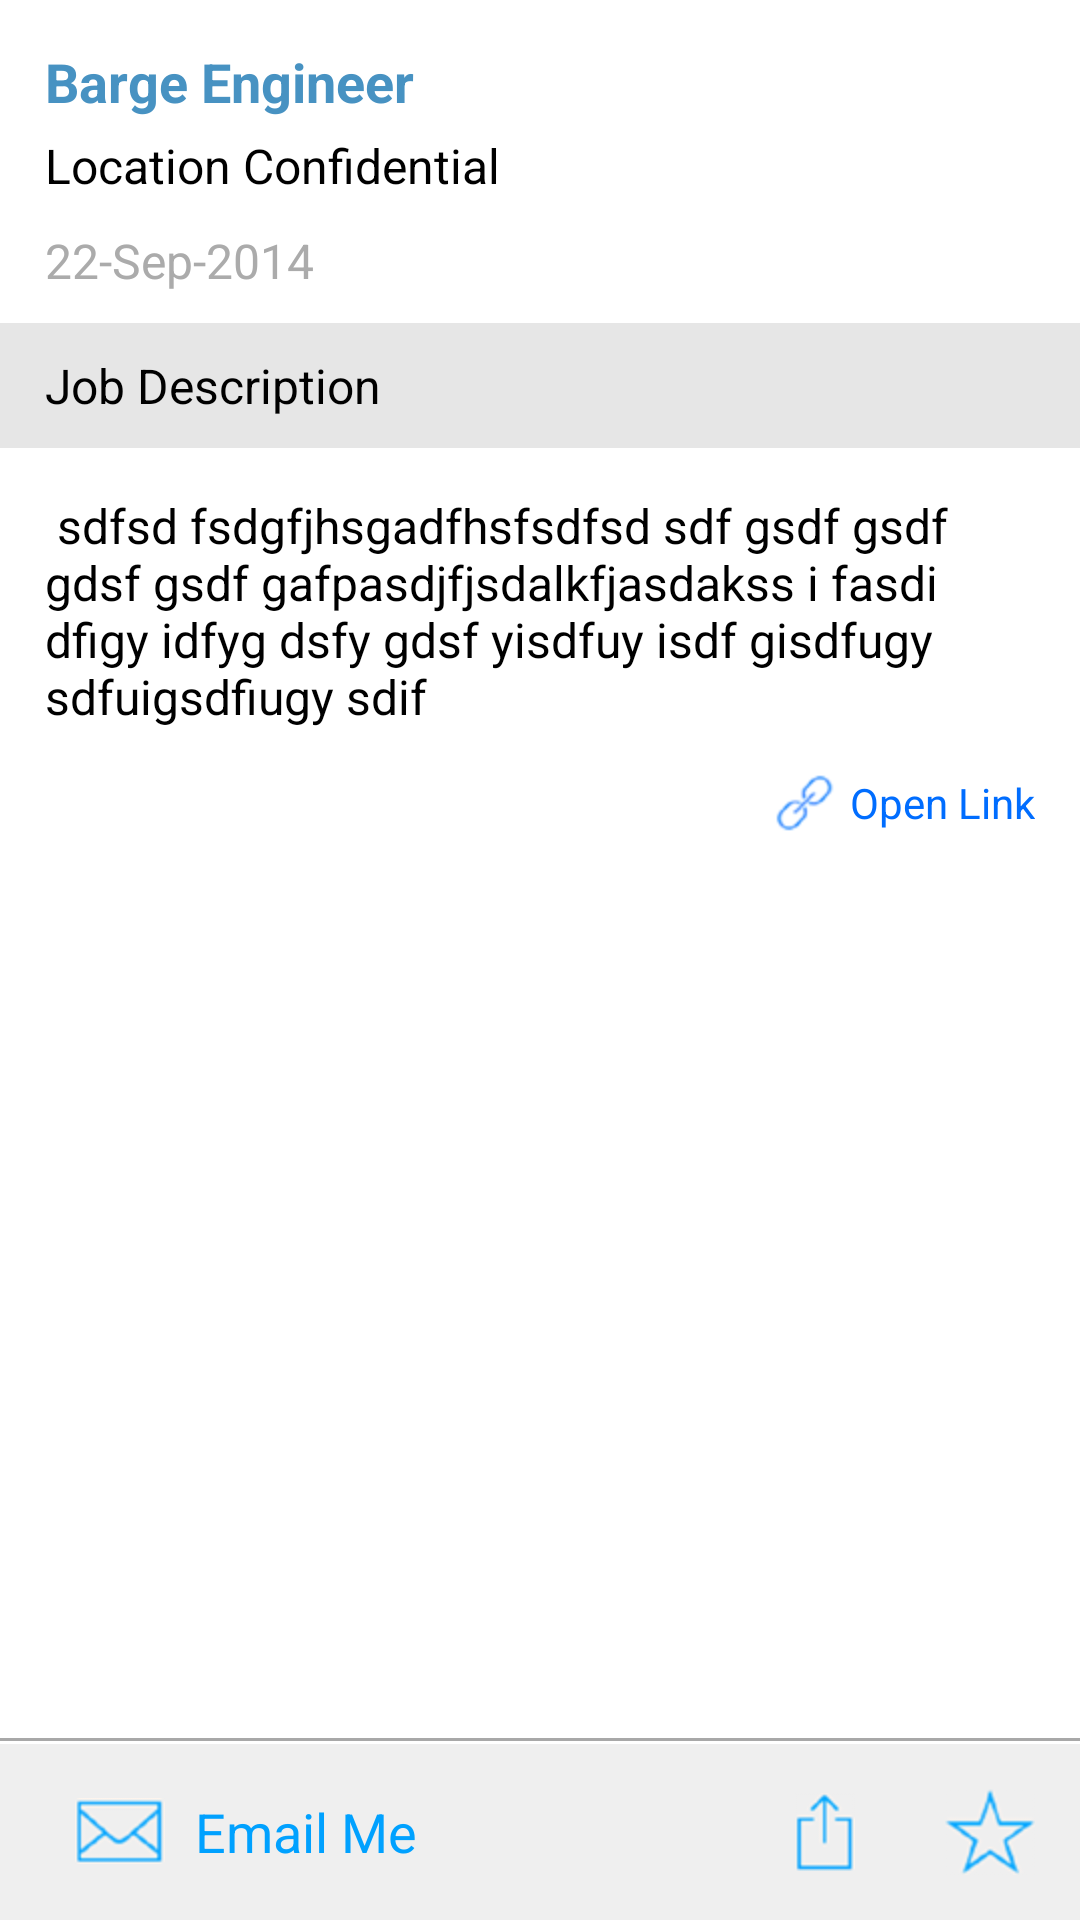

Icons on this 1080px×1920px Android screen, each with its box as region(x1, y1, x2, y2):
favourite off: region(946, 1790, 1034, 1874)
share: region(796, 1794, 853, 1871)
